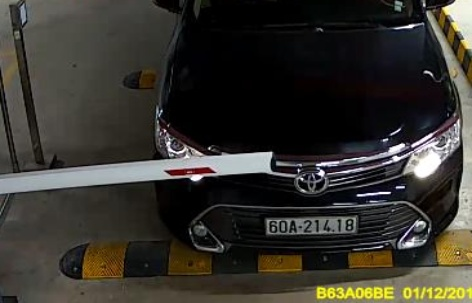plate: (264, 211, 359, 236)
